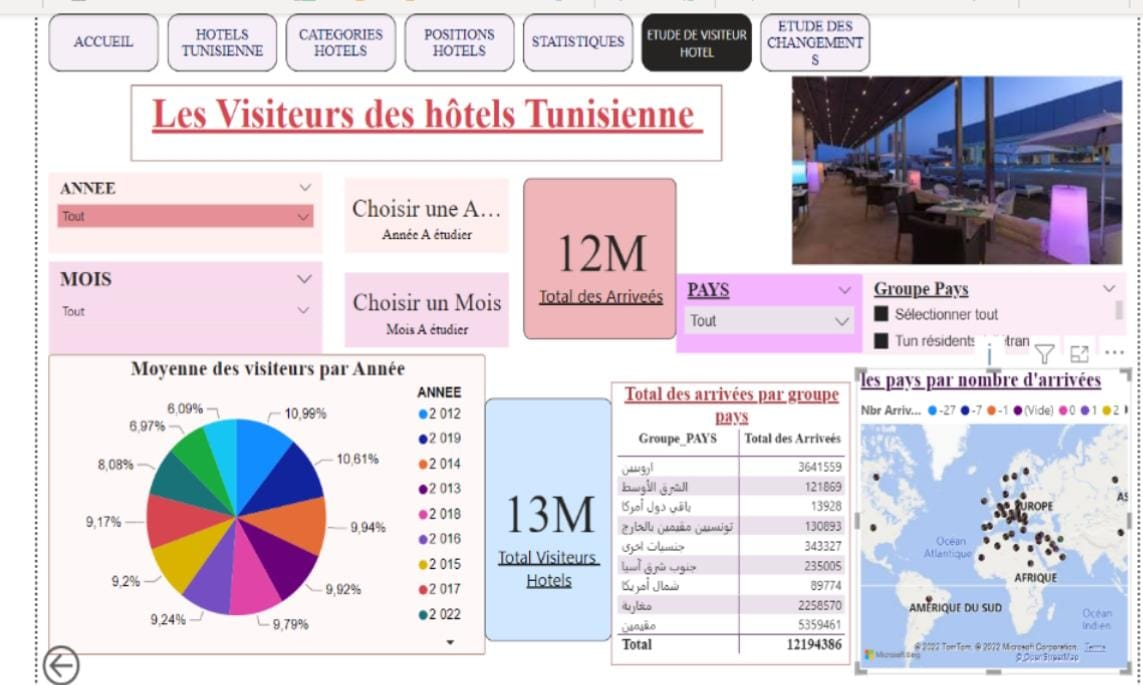

The dashboard page shown, as its layout file describes it:
{"tool":"powerbi","page":{"name":"ETUDE DE VISITEUR HOTEL","canvas":[1280,720],"ordinal":5},"visuals":[{"type":"card","fields":{"Values":["DECADE PAYS.Total des Arriveés"]},"box":[565.8,174.5,177.5,171.6],"z":0},{"type":"slicer","fields":{"Values":["GROUPE PAYS.Groupe_PAYSL"]},"box":[959.5,275.1,307.4,87.4],"z":1000},{"type":"card","fields":{"Values":["DECADE PAYS.Année A étudier"]},"box":[357.6,174.7,190.9,79.3],"z":2000},{"type":"slicer","fields":{"Values":["DECADE PAYS.ANNEE"]},"box":[12.9,168.3,318.7,85.8],"z":3000},{"type":"map","title":"les pays par nombre d''arrivées","fields":{"Category":["PAYS.PAYS"],"Series":["DECADE PAYS.Nbr Arrivées"]},"box":[953,377,320.4,323.6],"z":4000},{"type":"pieChart","title":"Moyenne des visiteurs par Année","fields":{"Y":["DECADE HOTEL.Moyenne des visiteurs pas ans"],"Category":["DECADE HOTEL.ANNEE"]},"box":[13.6,362.5,508.1,318.5],"z":5000},{"type":"pageNavigator","box":[12.9,0,959.5,61.5],"z":6000},{"type":"actionButton","box":[0,665,56.6,55],"z":7000},{"type":"textbox","box":[108.4,76,687.6,80.9],"z":8000},{"type":"slicer","fields":{"Values":["DECADE PAYS.MOIS"]},"box":[12.9,263.7,318.7,98.7],"z":9000},{"type":"card","fields":{"Values":["DECADE PAYS.Mois A étudier"]},"box":[357.6,275.1,190.9,79.3],"z":10000},{"type":"image","box":[872.1,61.5,394.8,210.3],"z":11000},{"type":"card","fields":{"Values":["DECADE HOTEL.Total des Visiteurs des Hotels"]},"box":[521,409.3,147.2,257.3],"z":12000},{"type":"slicer","fields":{"Values":["PAYS.PAYS"]},"box":[742.7,276.7,216.8,84.1],"z":13000},{"type":"tableEx","title":"Total des arrivées par groupe pays","fields":{"Values":["GROUPE PAYS.Groupe_PAYS","DECADE PAYS.Total des Arriveés"]},"box":[668.2,391.6,278.3,300.9],"z":14000}]}

Visuals, with their boxes on the page's 1280x720 design canvas (x1, y1, x2, y2). These are canvas units, not pixel positions in the 1143x685 screenshot, which may show the page scaled, cropped or inside an application window:
card - DECADE PAYS.Total des Arriveés: 566, 174, 743, 346
slicer - GROUPE PAYS.Groupe_PAYSL: 960, 275, 1267, 362
card - DECADE PAYS.Année A étudier: 358, 175, 548, 254
slicer - DECADE PAYS.ANNEE: 13, 168, 332, 254
"les pays par nombre d''arrivées" map: 953, 377, 1273, 701
"Moyenne des visiteurs par Année" pieChart: 14, 362, 522, 681
pageNavigator: 13, 0, 972, 62
actionButton: 0, 665, 57, 720
textbox: 108, 76, 796, 157
slicer - DECADE PAYS.MOIS: 13, 264, 332, 362
card - DECADE PAYS.Mois A étudier: 358, 275, 548, 354
image: 872, 62, 1267, 272
card - DECADE HOTEL.Total des Visiteurs des Hotels: 521, 409, 668, 667
slicer - PAYS.PAYS: 743, 277, 960, 361
"Total des arrivées par groupe pays" tableEx: 668, 392, 946, 692
